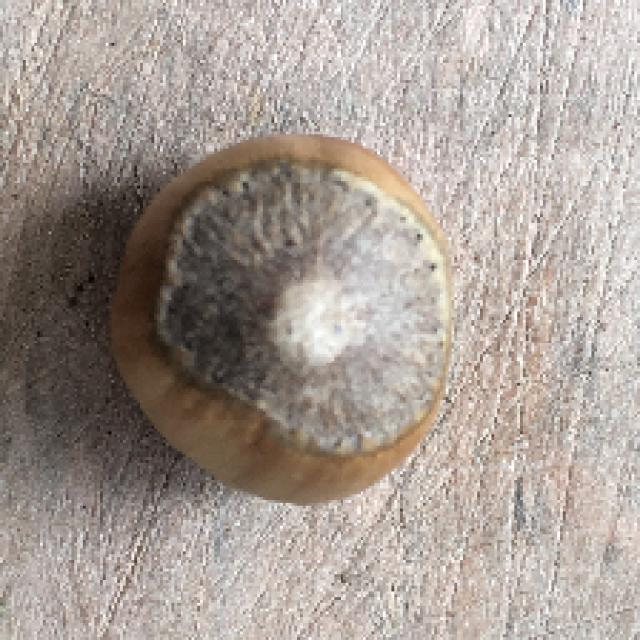qualityHazelnut: (110, 126, 461, 510)
